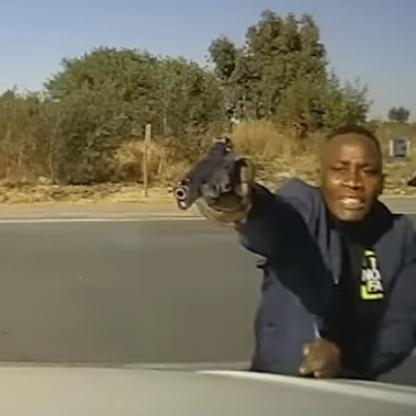criminal: (173, 124, 416, 387)
weapon: (174, 138, 247, 211)
